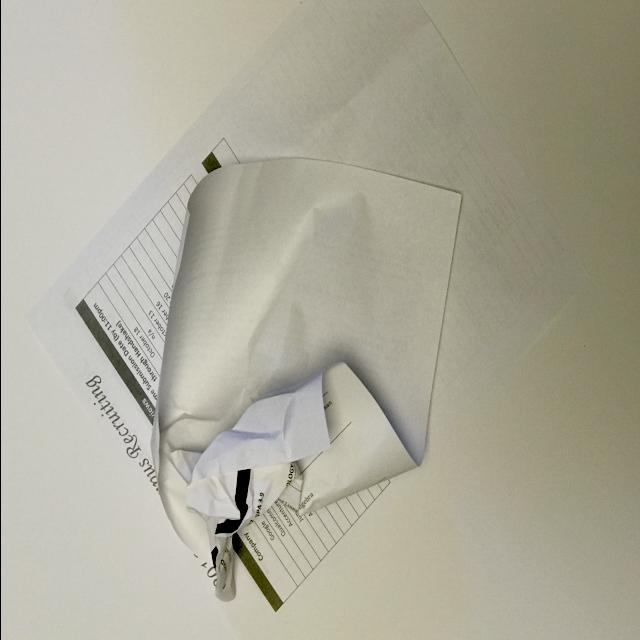Paper: (41, 106, 497, 640)
